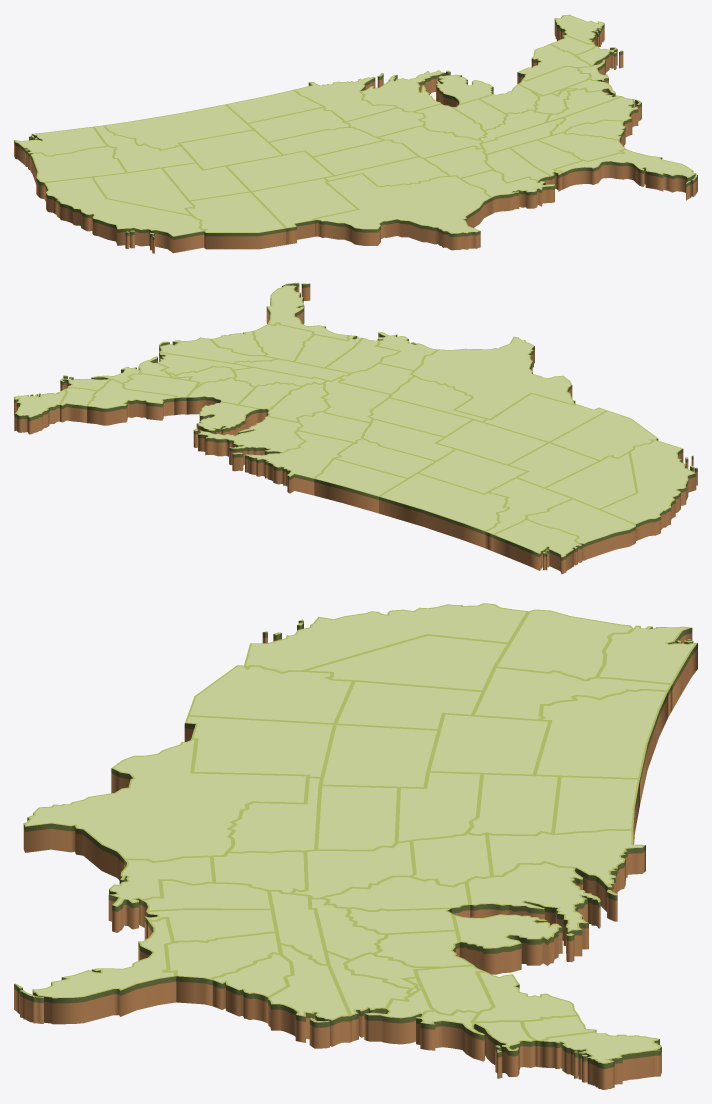
Rendered from USA.fbx.
3 views of the same model, one above another, from view 1: azimuth 30°, elevation 25°; view 2: azimuth 150°, elevation 25°; view 3: azimuth 270°, elevation 25° (orthographic). The views are drawn at different scales.
Visible parts, largest first — view 1: State.017, State.003, State.007, State.033, State.008, State.011, State.004, State.002, State.010, State.009, State.018, State.022 (+32 smaller); view 2: State.017, State.008, State.003, State.018, State.002, State.001, State.011, State.007, State.023, State.004, State.012, State.038 (+31 smaller); view 3: State.017, State.003, State.008, State.033, State.011, State.007, State.018, State.004, State.023, State.010, State.009, State.002 (+32 smaller).
Boxes of the visible parts, box(x1,y1,x2,y2) form: State.017: box(314, 173, 491, 250); State.003: box(44, 177, 205, 253); State.007: box(186, 192, 286, 249); State.033: box(554, 149, 697, 200); State.008: box(104, 104, 253, 149); State.011: box(251, 178, 357, 244); State.004: box(92, 168, 194, 215); State.002: box(30, 146, 126, 198); State.010: box(226, 151, 333, 191); State.009: box(179, 130, 282, 169); State.018: box(293, 73, 397, 122); State.022: box(460, 169, 554, 213); State.017: box(411, 336, 575, 419); State.008: box(379, 473, 508, 547); State.003: box(599, 440, 697, 540); State.018: box(232, 430, 356, 495); State.002: box(526, 498, 635, 560); State.001: box(493, 519, 582, 574); State.011: box(483, 393, 607, 442); State.007: box(549, 410, 658, 460); State.023: box(193, 416, 305, 465); State.004: box(545, 452, 636, 509); State.012: box(314, 458, 407, 513); State.038: box(87, 379, 175, 425); State.017: box(23, 739, 307, 880); State.003: box(244, 603, 528, 672); State.008: box(534, 690, 668, 804); State.033: box(14, 918, 176, 1024); State.011: box(184, 715, 334, 777); State.007: box(187, 665, 353, 723); State.018: box(487, 829, 645, 921); State.004: box(302, 635, 508, 691); State.023: box(466, 862, 600, 962); State.010: box(320, 724, 439, 787); State.009: box(428, 713, 549, 775); State.002: box(495, 609, 633, 680).
Bounding box in the file's own units: 944 × 25 × 592.
